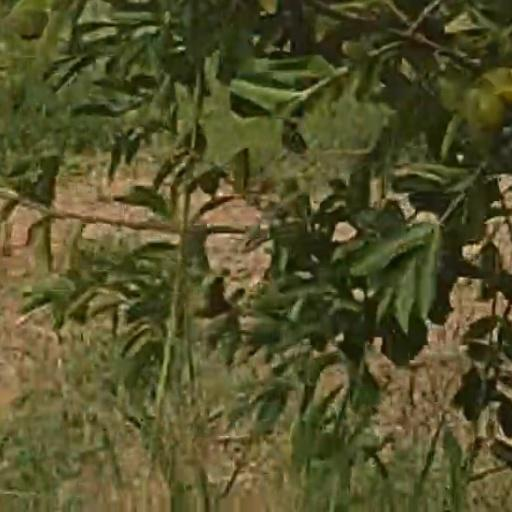acerola: (481, 68, 512, 121), (465, 88, 497, 124)
